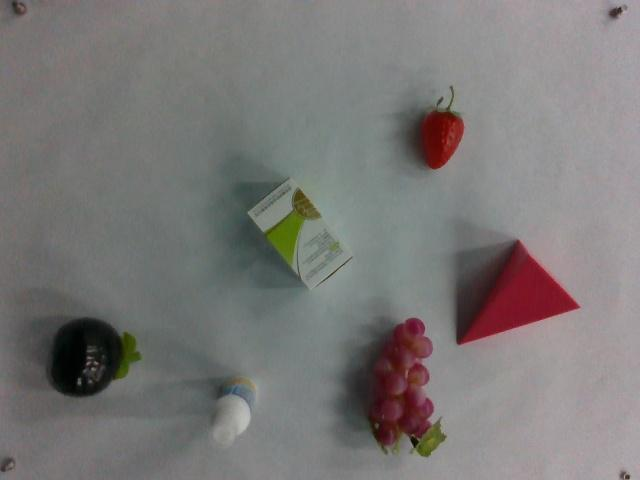carton: (248, 173, 354, 293)
detergent: (208, 373, 257, 447)
grape: (364, 316, 446, 461)
mangosteen: (48, 314, 141, 399)
pyramid: (459, 236, 583, 349)
strawberry: (415, 85, 467, 172)
